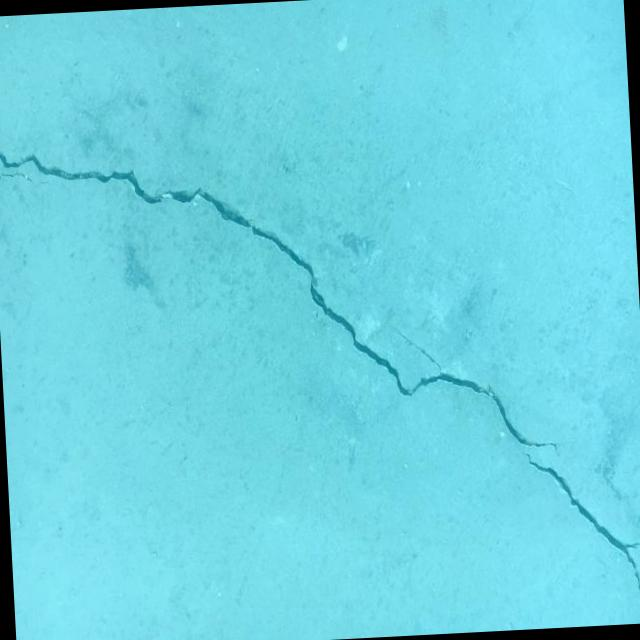crack: (0, 107, 640, 640), (0, 170, 49, 189)
